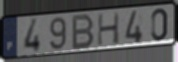0: (150, 7, 169, 43)
4: (22, 17, 43, 54), (124, 9, 144, 45)
9: (47, 16, 68, 51)
B: (71, 12, 96, 51)
H: (96, 11, 121, 47)
